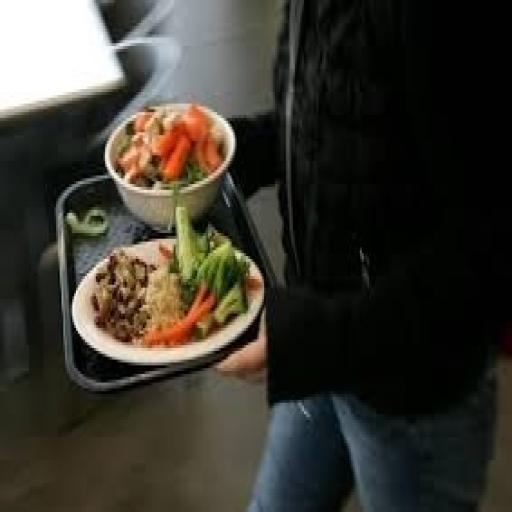eating: (215, 0, 510, 509)
